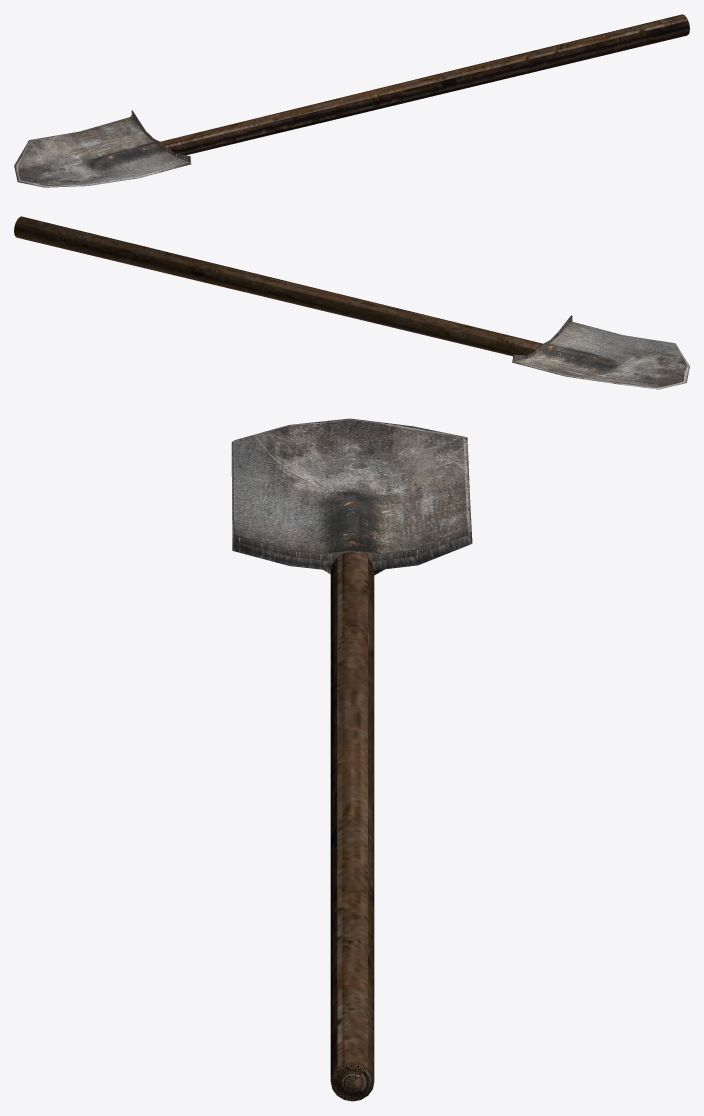
File: LOPATA2.glb
3 views of the same model, one above another, from view 1: azimuth 30°, elevation 25°; view 2: azimuth 150°, elevation 25°; view 3: azimuth 270°, elevation 25° (orthographic). The views are drawn at different scales.
Parts seen in each view (by area): view 1: Mesh; view 2: Mesh; view 3: Mesh.
Boxes of the visible parts, <box> form: Mesh: <box>14,14,689,187</box>; Mesh: <box>14,216,689,389</box>; Mesh: <box>231,418,472,1101</box>.
Size of the model in its own units: 1.29 by 0.0571 by 0.2003.
Materials: 2 (2 with a texture image).
